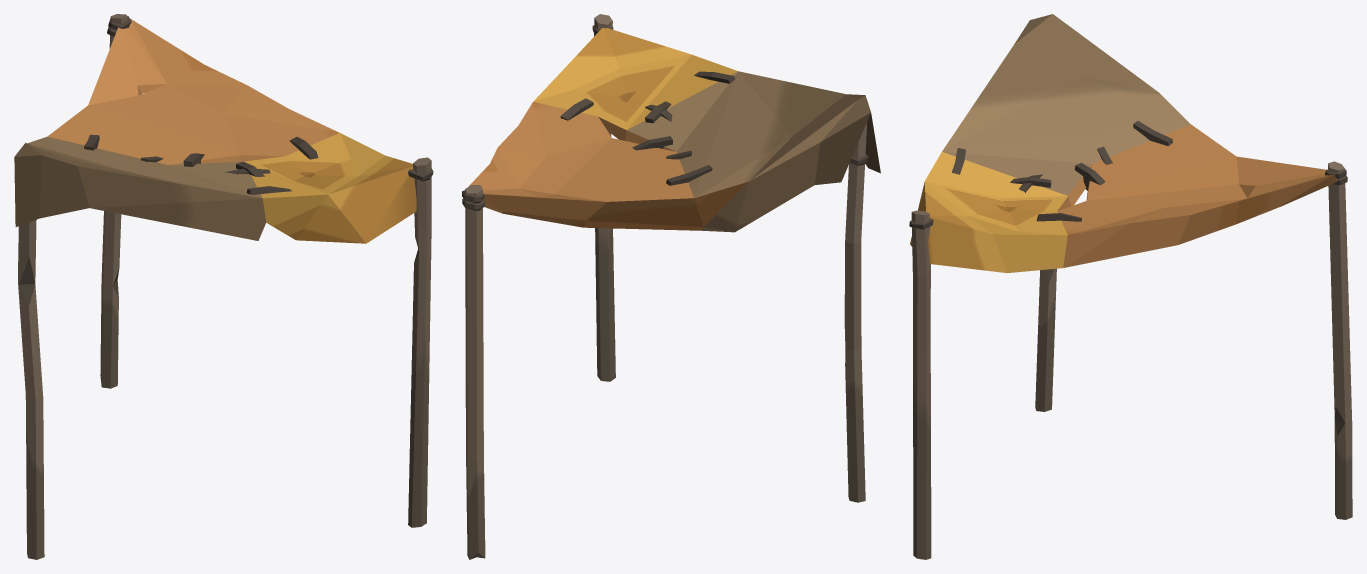
Rendered from SM_Bld_Tent_03.fbx.
3 views of the same model, side by side, from view 1: azimuth 30°, elevation 25°; view 2: azimuth 150°, elevation 25°; view 3: azimuth 270°, elevation 25° (orthographic). The views are drawn at different scales.
Parts seen in each view (by area): view 1: SM_Bld_Tent_03; view 2: SM_Bld_Tent_03; view 3: SM_Bld_Tent_03.
Part boxes in pixels (x1,y1,x2,y2): SM_Bld_Tent_03: (14, 14, 433, 559); SM_Bld_Tent_03: (462, 14, 880, 559); SM_Bld_Tent_03: (909, 14, 1352, 559).
Size of the model in its own units: 283 by 313 by 320.
